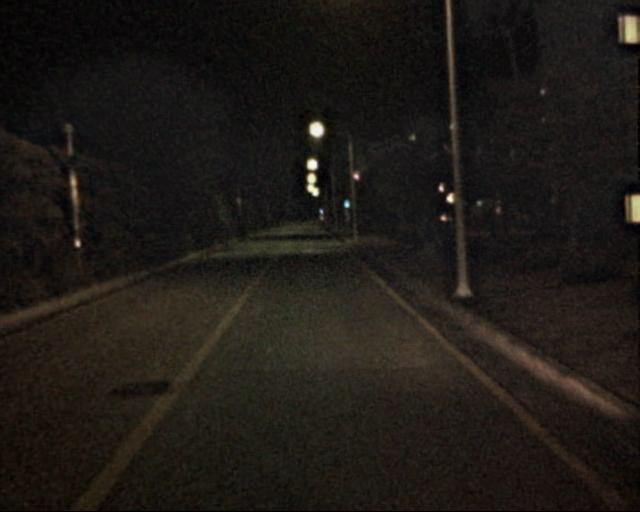person: (429, 212, 448, 259), (417, 214, 436, 260)
